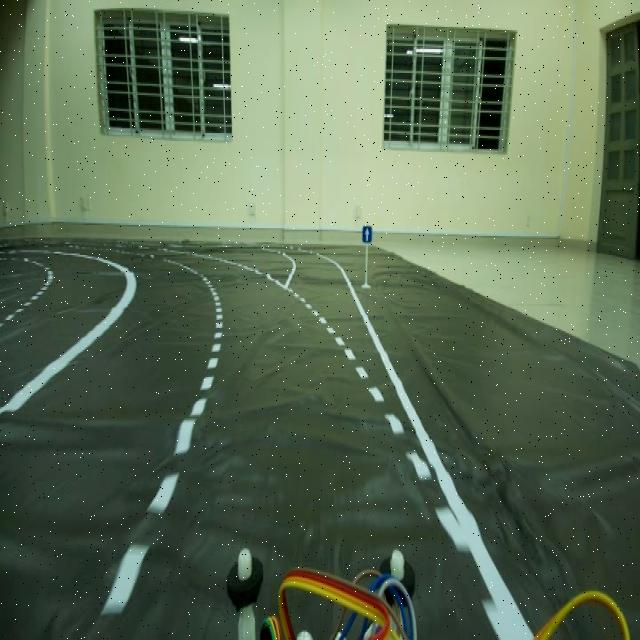onewayroad: (360, 224, 372, 245)
